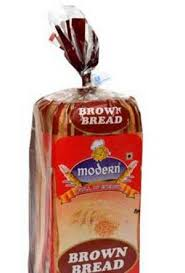bread: (34, 10, 143, 273)
